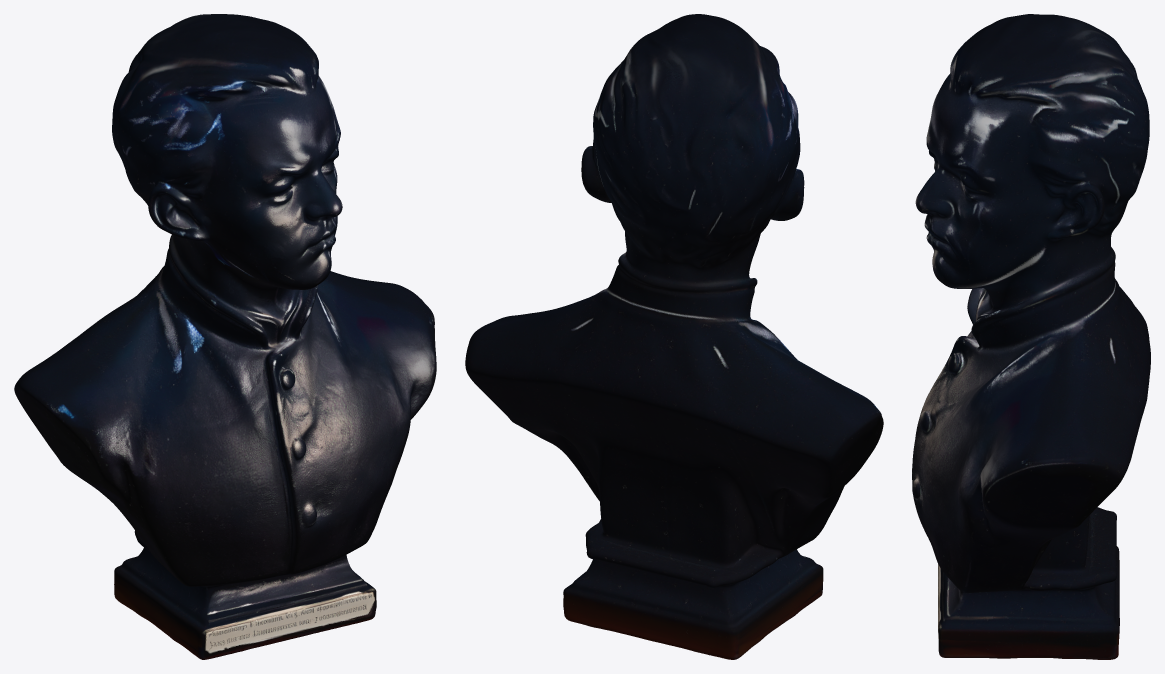
The model's file is statuetka_vladimir_ulyanov_3d.glb.
3 views of the same model, side by side, from view 1: azimuth 30°, elevation 25°; view 2: azimuth 150°, elevation 25°; view 3: azimuth 270°, elevation 25° (orthographic).
Bounding box in the file's own units: 1.32 × 1.9 × 0.697.
1 material, 1 textured.
